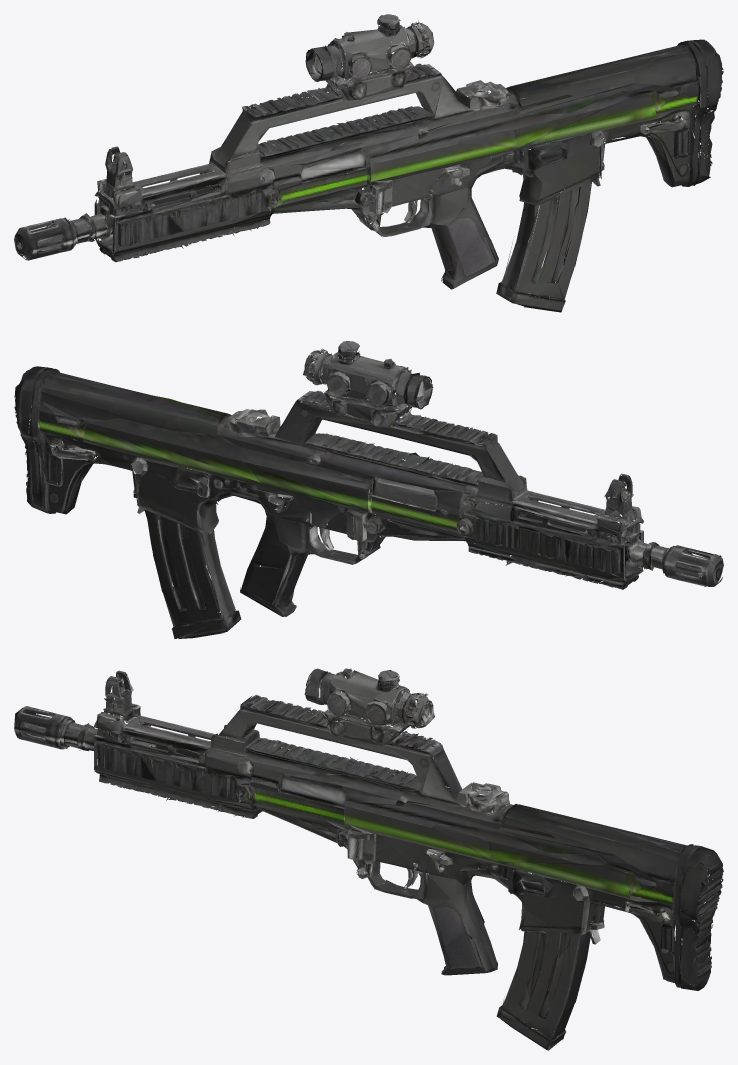
File: gun_burst_lo.glb
The picture shows the model from 3 angles, top to bottom: view 1: azimuth 30°, elevation 25°; view 2: azimuth 150°, elevation 25°; view 3: azimuth 330°, elevation 25°; orthographic projection.
Visible parts, largest first — view 1: Mesh_0; view 2: Mesh_0; view 3: Mesh_0.
Boxes of the visible parts, x1,y1,x2,y2 form: Mesh_0: (14,14,723,312); Mesh_0: (14,341,723,638); Mesh_0: (14,668,723,1050).
Bounding box in the file's own units: 1.9 × 0.8635 × 0.1576.
1 material, 1 textured.
